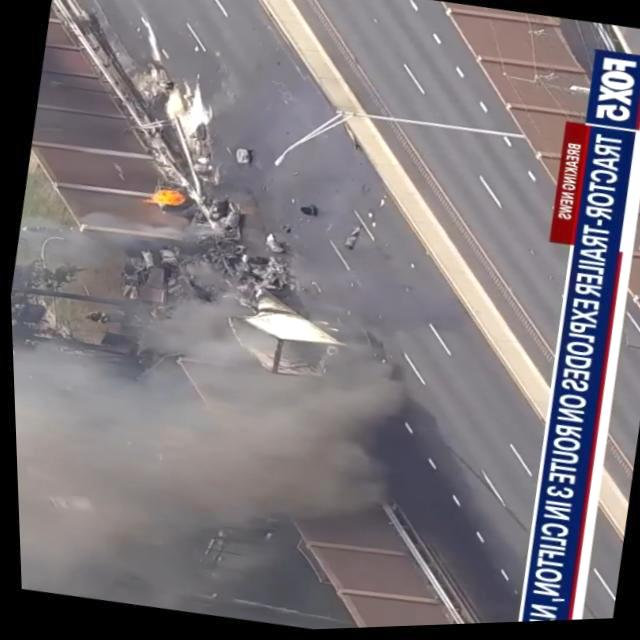fire: (139, 177, 191, 216)
